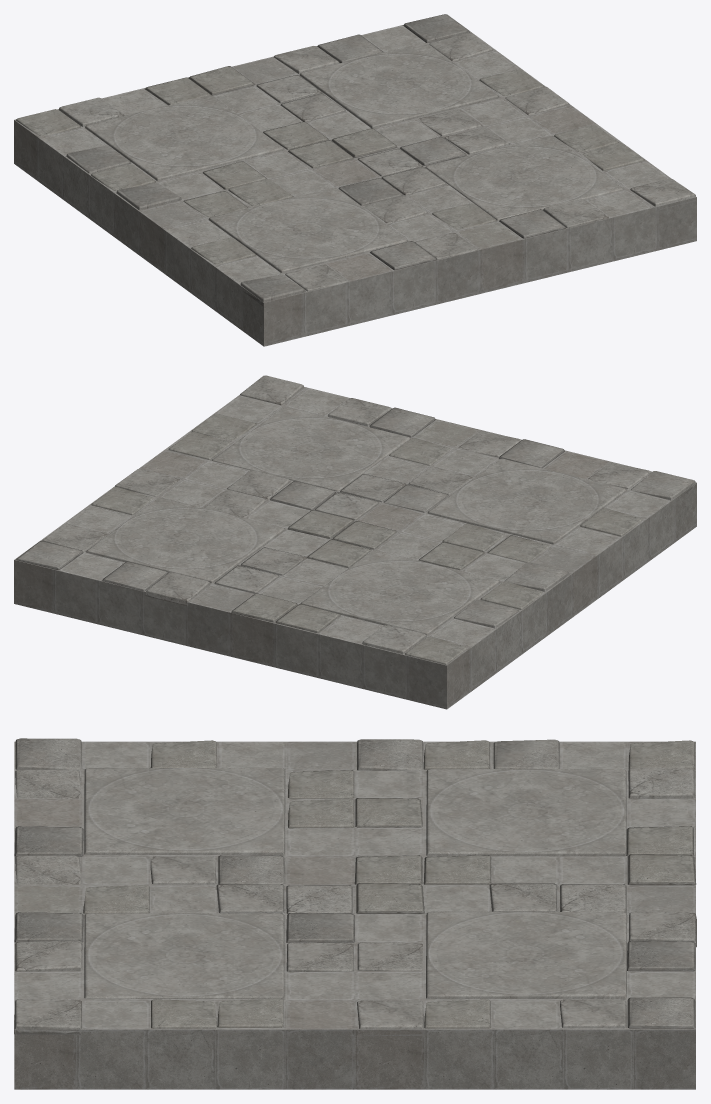
The model's file is SM_InteriorFloor_1.fbx.
3 renders of one model, top to bottom at view 1: azimuth 30°, elevation 25°; view 2: azimuth 150°, elevation 25°; view 3: azimuth 270°, elevation 25°, orthographic. The views are drawn at different scales.
Parts seen in each view (by area): view 1: SM_InteriorFloor_1_LOD0; view 2: SM_InteriorFloor_1_LOD0; view 3: SM_InteriorFloor_1_LOD0.
Part boxes in pixels (<box>): SM_InteriorFloor_1_LOD0: <box>14,14,696,346</box>; SM_InteriorFloor_1_LOD0: <box>14,375,696,709</box>; SM_InteriorFloor_1_LOD0: <box>14,738,696,1089</box>.
Size of the model in its own units: 501 by 501 by 51.78.
